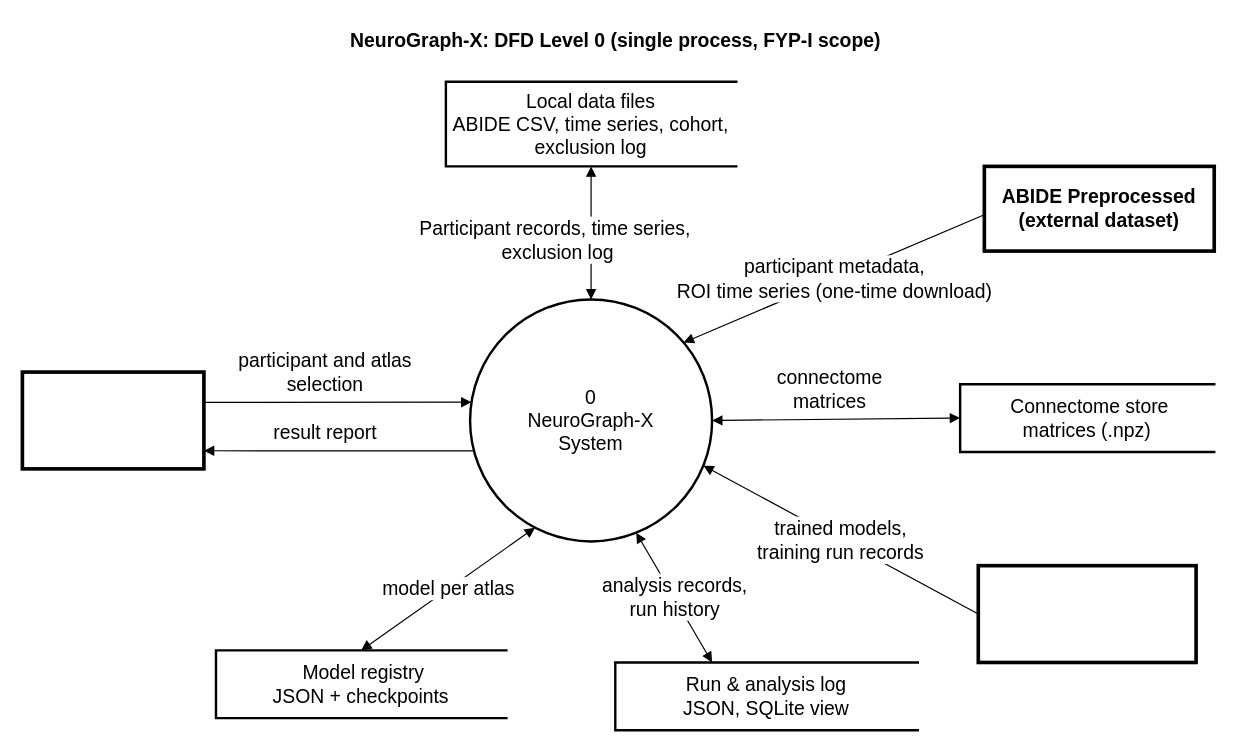
Image size: 1237x751. Some labels were removed from this diagram. Each missing label, with the box of its shape:
Offline Training Environment: (976, 563, 1197, 664)
Research User: (20, 370, 205, 470)
